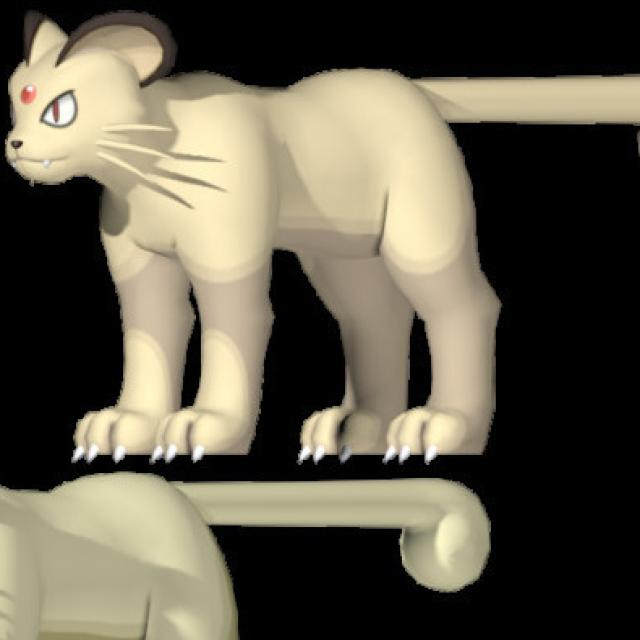Persian: (6, 24, 488, 465)
